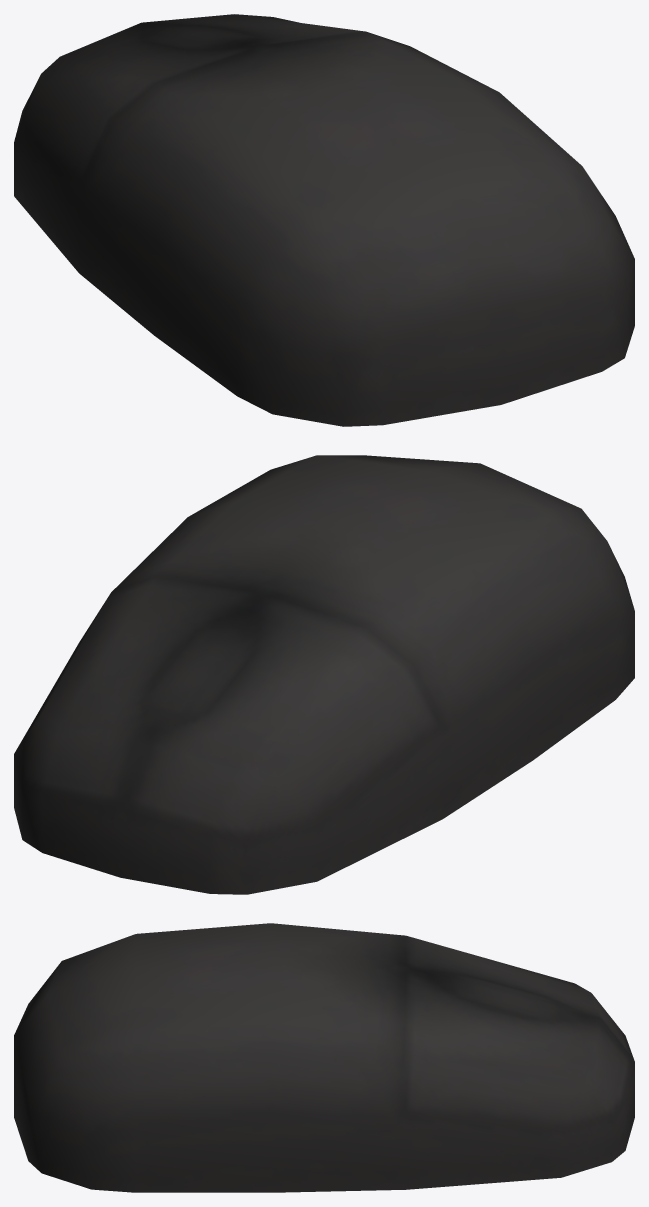
The model's file is OfficeComputer01_5.FBX.
3 renders of one model, top to bottom at view 1: azimuth 30°, elevation 25°; view 2: azimuth 150°, elevation 25°; view 3: azimuth 270°, elevation 25°, orthographic. The views are drawn at different scales.
Parts seen in each view (by area): view 1: OfficeComputer01_5; view 2: OfficeComputer01_5; view 3: OfficeComputer01_5.
Part boxes in pixels (left/top/right/bottom): OfficeComputer01_5: left=14, top=14, right=634, bottom=426; OfficeComputer01_5: left=14, top=455, right=634, bottom=894; OfficeComputer01_5: left=14, top=923, right=634, bottom=1192.
Size of what is drawn, in the model's own units: 0.0842 by 0.0416 by 0.1467.
